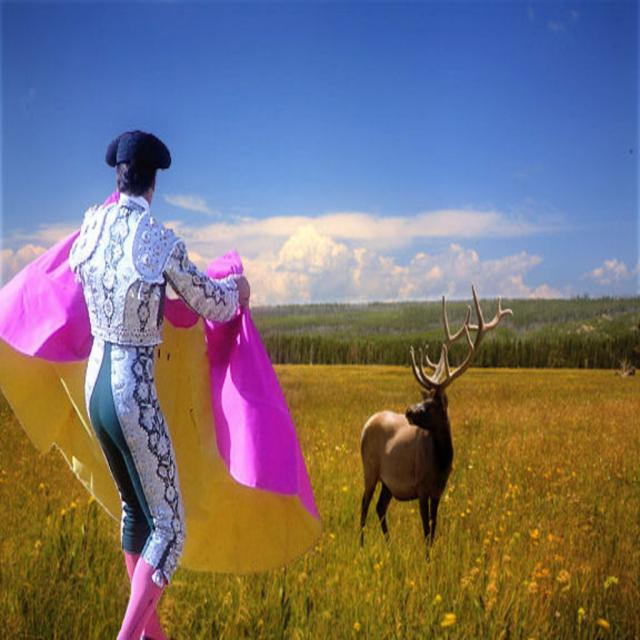Deer: (359, 286, 513, 548)
